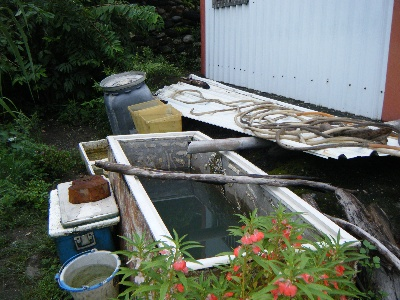box: (106, 130, 363, 300), (137, 105, 183, 134)
bucket: (56, 249, 122, 300)
plate: (98, 67, 149, 91)
styrofoam: (77, 137, 111, 164)
